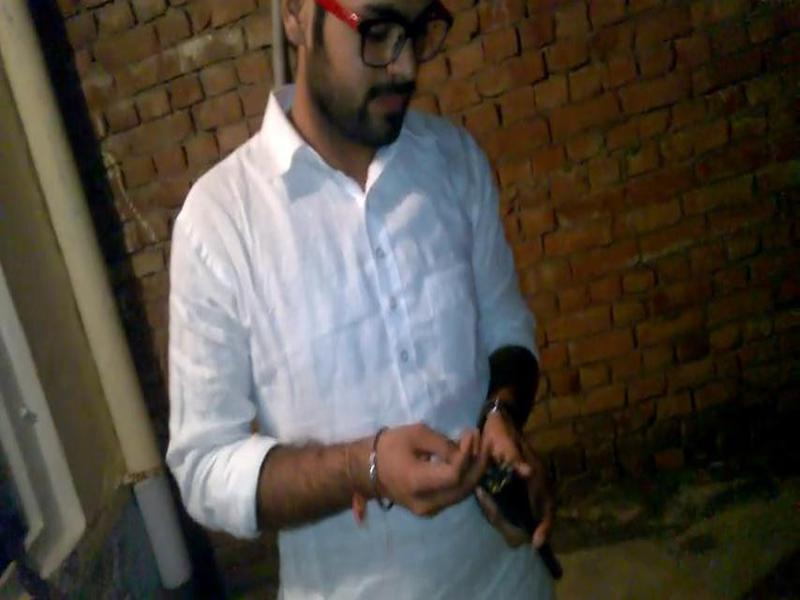Revolver: (445, 420, 597, 594)
